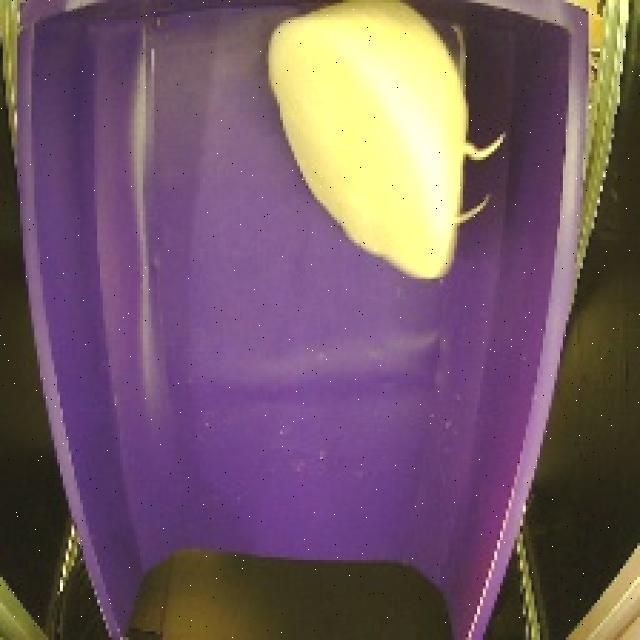white_radish: (257, 0, 511, 292)
